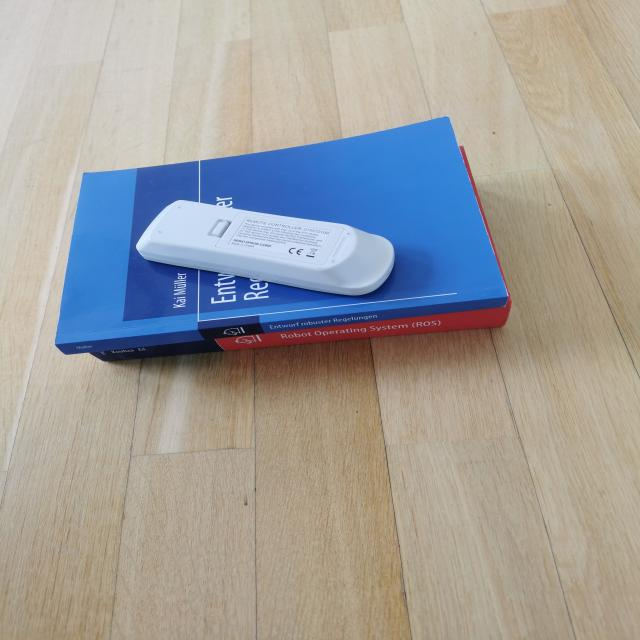remote: (133, 199, 401, 301)
